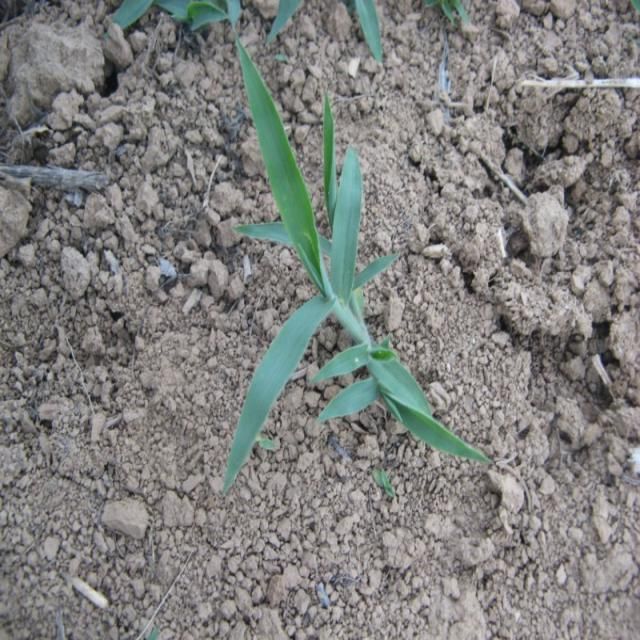bg: (224, 35, 487, 482)
